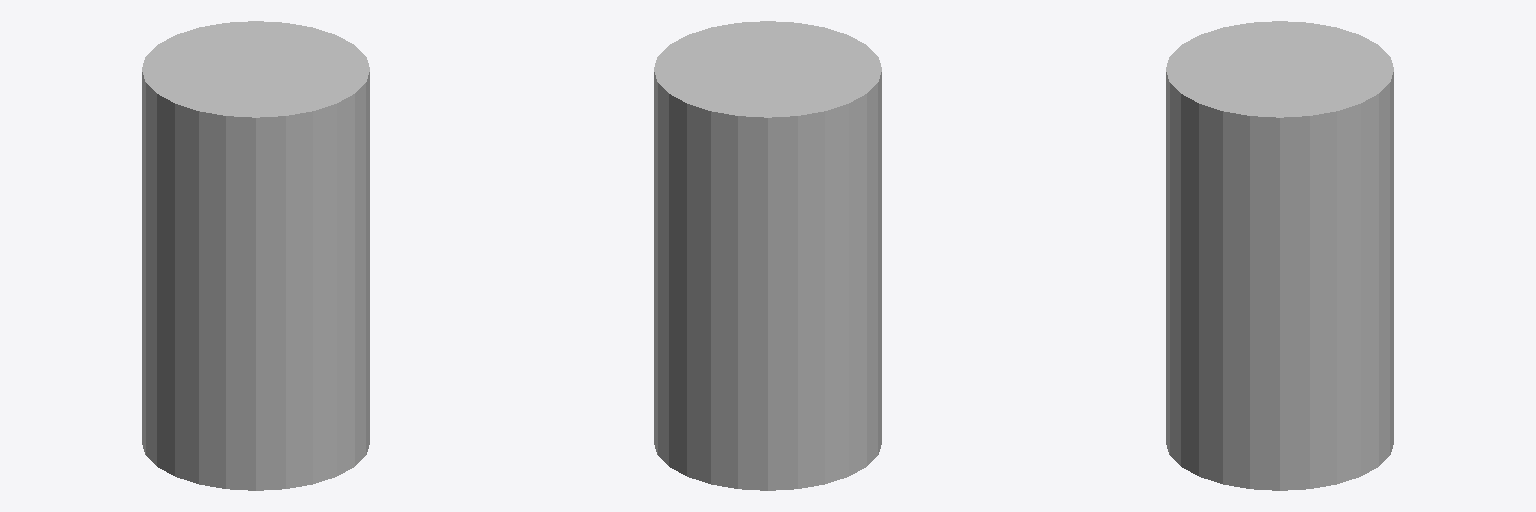
File: satbusenginecollider.obj
3 renders of one model, left to right at view 1: azimuth 30°, elevation 25°; view 2: azimuth 150°, elevation 25°; view 3: azimuth 270°, elevation 25°, orthographic.
Parts seen in each view (by area): view 1: Collider_Cylinder.002; view 2: Collider_Cylinder.002; view 3: Collider_Cylinder.002.
Boxes of the visible parts, x1=… form: Collider_Cylinder.002: x1=142, y1=21, x2=369, y2=490; Collider_Cylinder.002: x1=654, y1=21, x2=881, y2=490; Collider_Cylinder.002: x1=1166, y1=21, x2=1393, y2=490.
Size of the model in its own units: 0.1 by 0.18 by 0.1.